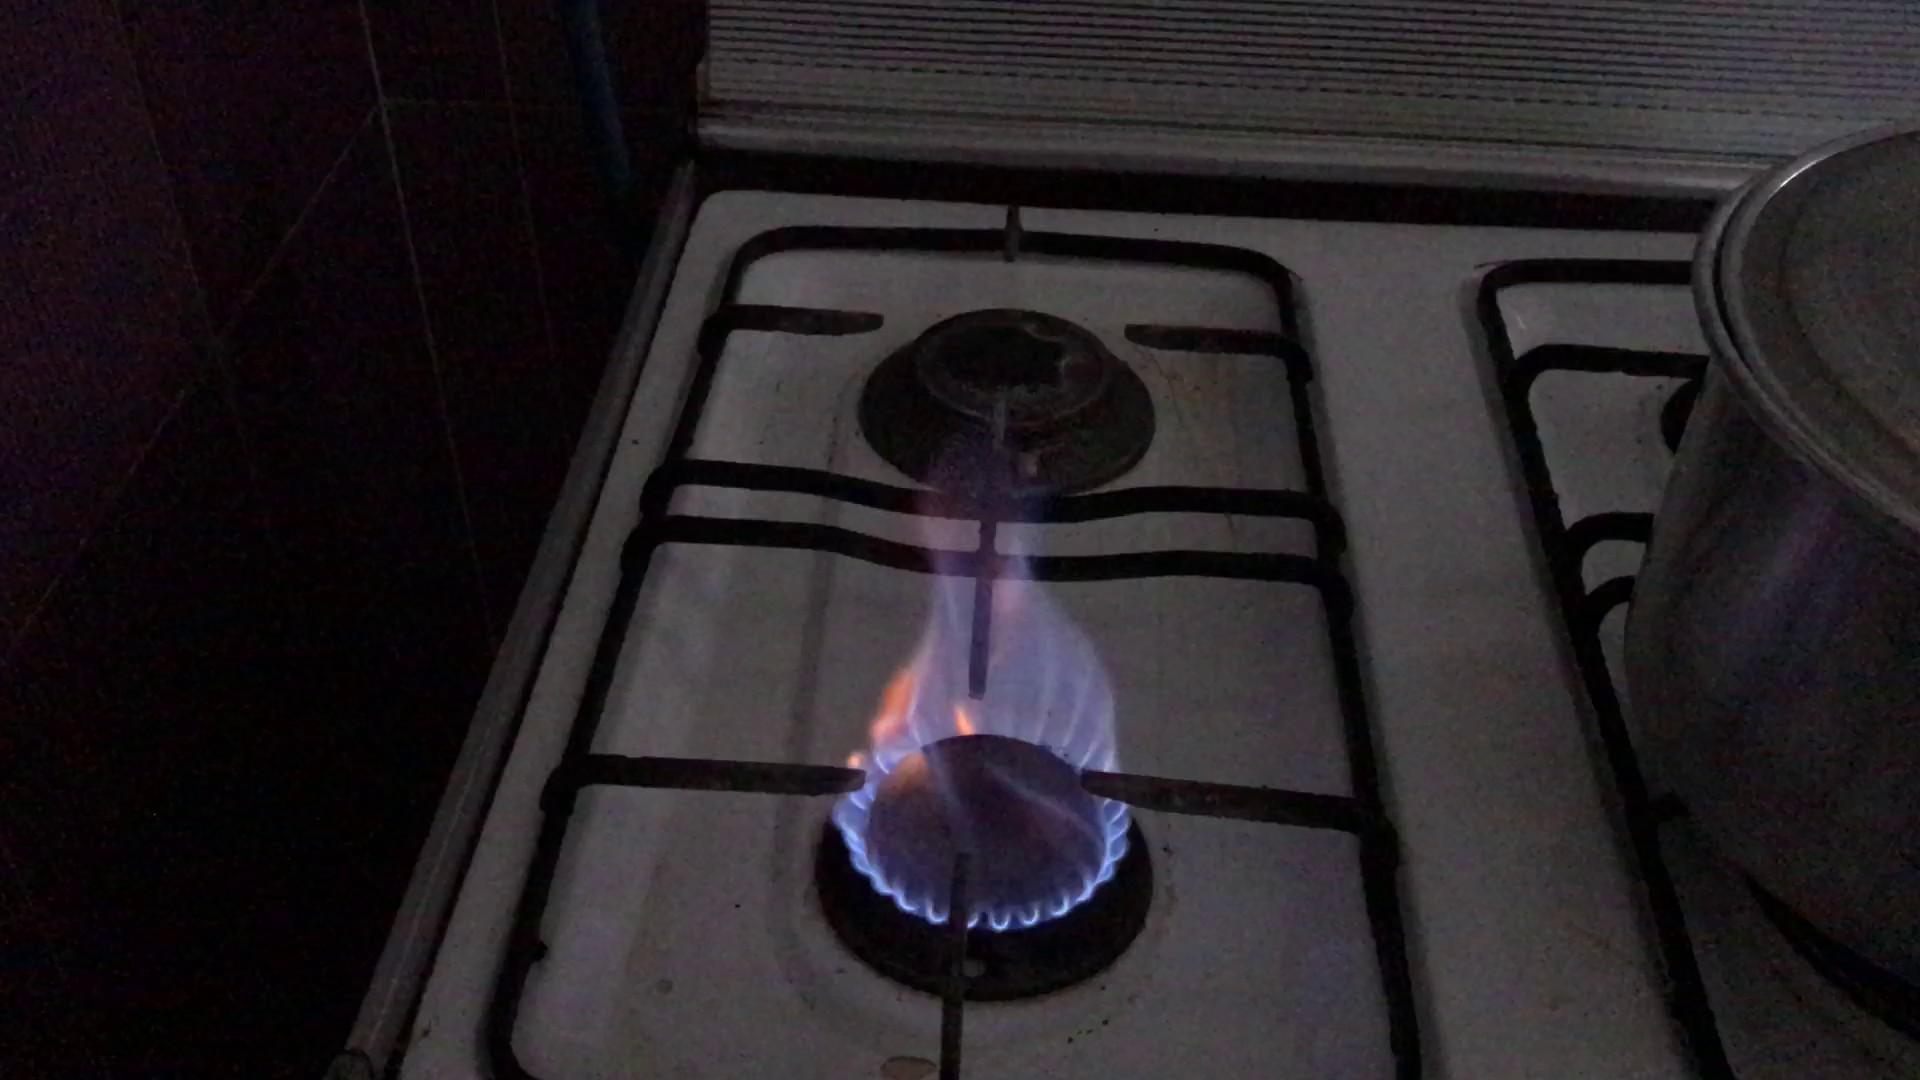fire: (828, 549, 1155, 926)
